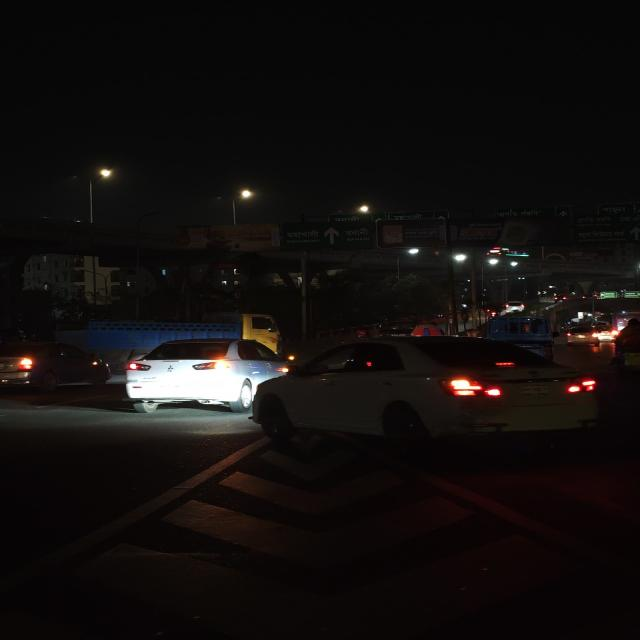car: (255, 333, 597, 451), (123, 336, 292, 416), (0, 339, 113, 393), (564, 324, 602, 348)
pickup_van: (482, 313, 558, 357)
